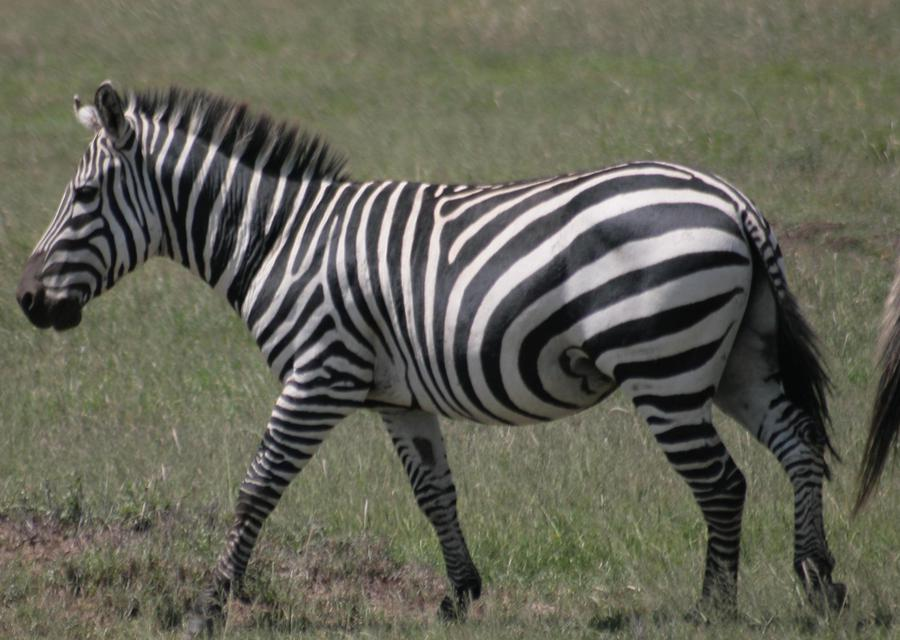zebra_plains: (258, 153, 750, 438)
